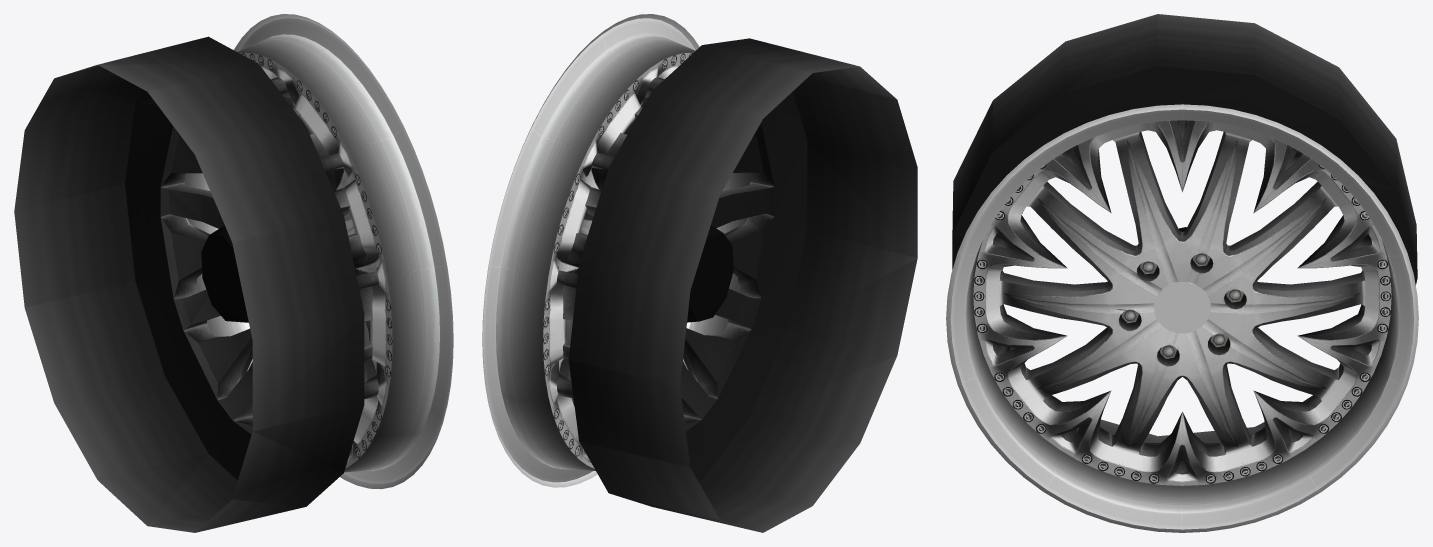
Rendered from wheel22.fbx.
The picture shows the model from 3 angles, left to right: view 1: azimuth 30°, elevation 25°; view 2: azimuth 150°, elevation 25°; view 3: azimuth 270°, elevation 25°; orthographic projection. The views are drawn at different scales.
Parts seen in each view (by area): view 1: dub_bigchips_wheel_wheel_inner_rim_, wheel_rim, dub_bigchips_wheel_wheel_chrome_rim_; view 2: dub_bigchips_wheel_wheel_inner_rim_, wheel_rim, dub_bigchips_wheel_wheel_chrome_rim_; view 3: dub_bigchips_wheel_wheel_chrome_rim_, dub_bigchips_wheel_wheel_inner_rim_, wheel_rim.
Part boxes in pixels (<box>): dub_bigchips_wheel_wheel_inner_rim_: <box>14,36,364,532</box>; wheel_rim: <box>185,14,453,489</box>; dub_bigchips_wheel_wheel_chrome_rim_: <box>161,53,392,468</box>; dub_bigchips_wheel_wheel_inner_rim_: <box>568,38,917,532</box>; wheel_rim: <box>482,14,750,487</box>; dub_bigchips_wheel_wheel_chrome_rim_: <box>543,52,773,468</box>; dub_bigchips_wheel_wheel_chrome_rim_: <box>973,103,1391,485</box>; dub_bigchips_wheel_wheel_inner_rim_: <box>952,14,1417,445</box>; wheel_rim: <box>946,104,1418,532</box>.
Bounding box in the file's own units: 0.2267 × 0.4794 × 0.4794.
Materials: 1 (1 with a texture image).
